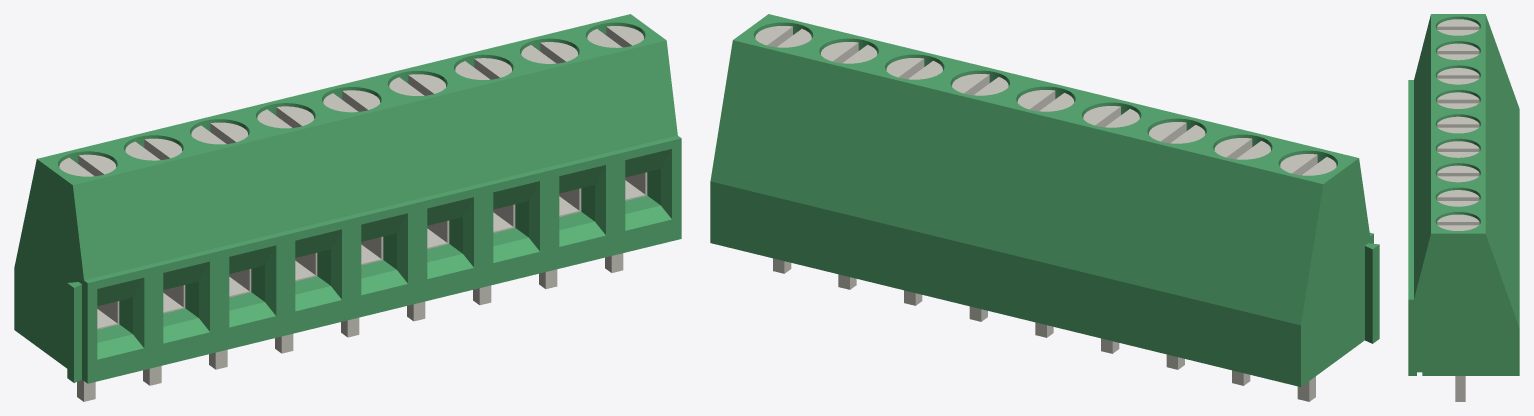
The model's file is kc-terminalblock_phoenix_mkds-1_5-9-5.08_1x09_p5.08mm_horizontal.glb.
3 renders of one model, left to right at view 1: azimuth 30°, elevation 25°; view 2: azimuth 150°, elevation 25°; view 3: azimuth 270°, elevation 25°, orthographic. The views are drawn at different scales.
Visible parts, largest first — view 1: 0.08333333333333333_0.4166666666666667_0.16666666666666666_0, 0.6666666666666666_0.6666666666666666_0.5833333333333334_0.8; view 2: 0.08333333333333333_0.4166666666666667_0.16666666666666666_0, 0.6666666666666666_0.6666666666666666_0.5833333333333334_0.8; view 3: 0.08333333333333333_0.4166666666666667_0.16666666666666666_0, 0.6666666666666666_0.6666666666666666_0.5833333333333334_0.8.
Boxes of the visible parts, bbox=[...] form: 0.08333333333333333_0.4166666666666667_0.16666666666666666_0: bbox=[14, 14, 681, 383]; 0.6666666666666666_0.6666666666666666_0.5833333333333334_0.8: bbox=[59, 26, 647, 401]; 0.08333333333333333_0.4166666666666667_0.16666666666666666_0: bbox=[710, 14, 1379, 386]; 0.6666666666666666_0.6666666666666666_0.5833333333333334_0.8: bbox=[755, 26, 1336, 401]; 0.08333333333333333_0.4166666666666667_0.16666666666666666_0: bbox=[1408, 14, 1519, 375]; 0.6666666666666666_0.6666666666666666_0.5833333333333334_0.8: bbox=[1437, 19, 1479, 401].
Size of the model in its own units: 4.65 by 1.73 by 0.98.
